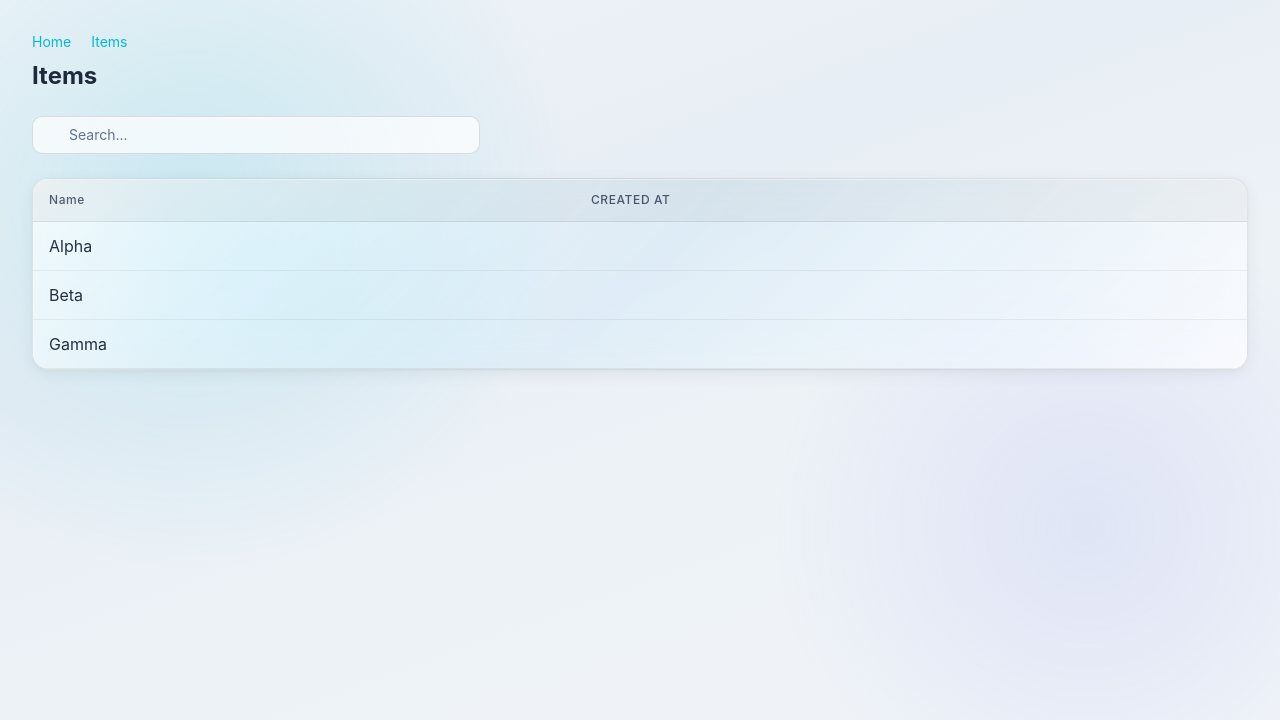
it: EntityListPage › filters desktop rows when search query matches one item
The image size is (1280, 720).
In the field with placeholder "Search...": (256, 135) top-left (32, 116), bottom-right (480, 154), type "alpha"
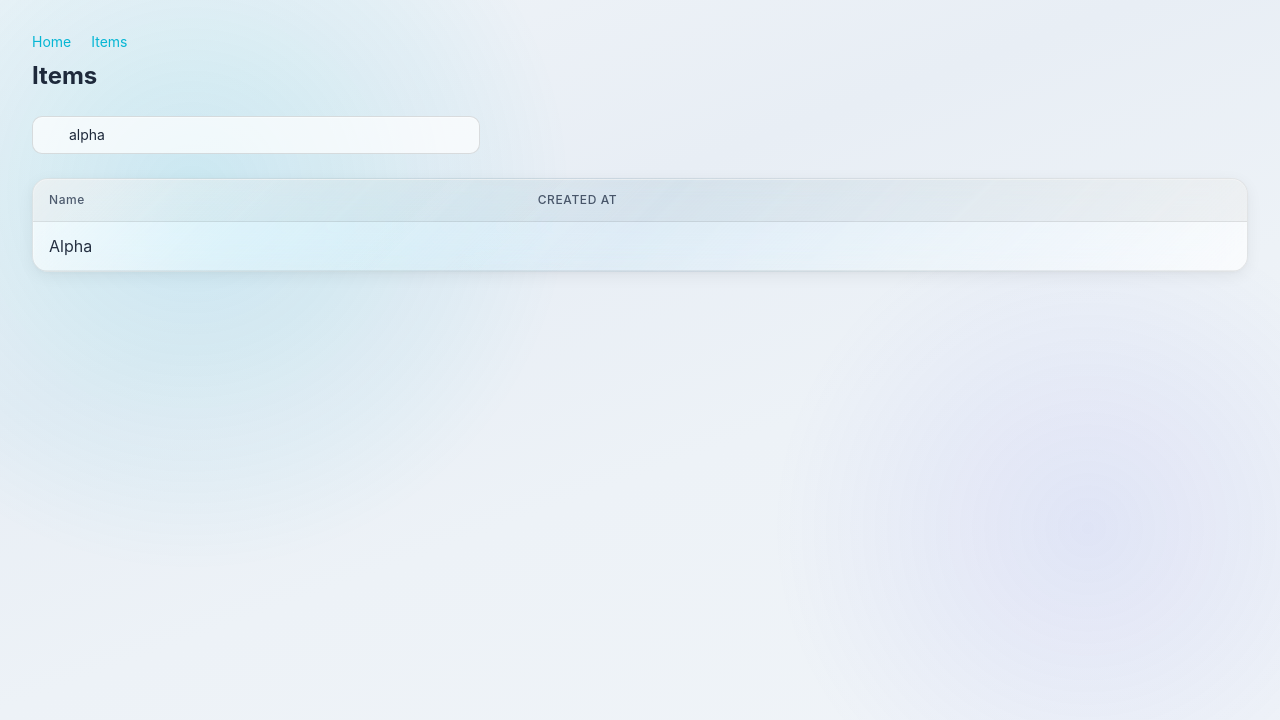
Expected: the cell with test id "desktop-cell" reads "Alpha", top-left (49, 236), bottom-right (92, 256)
Now the number of cells with test id "desktop-cell" is 1, box top-left (33, 222), bottom-right (522, 270)
